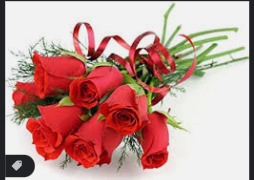RedRose: (65, 111, 122, 170), (23, 50, 86, 100), (67, 60, 127, 106), (135, 110, 179, 170), (107, 84, 150, 134)
